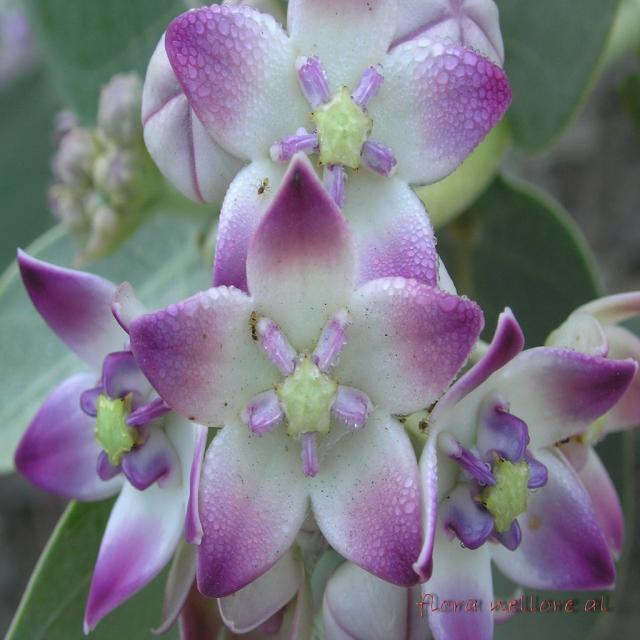Poisonous-Calatropis: (22, 242, 640, 640), (143, 0, 515, 244)
